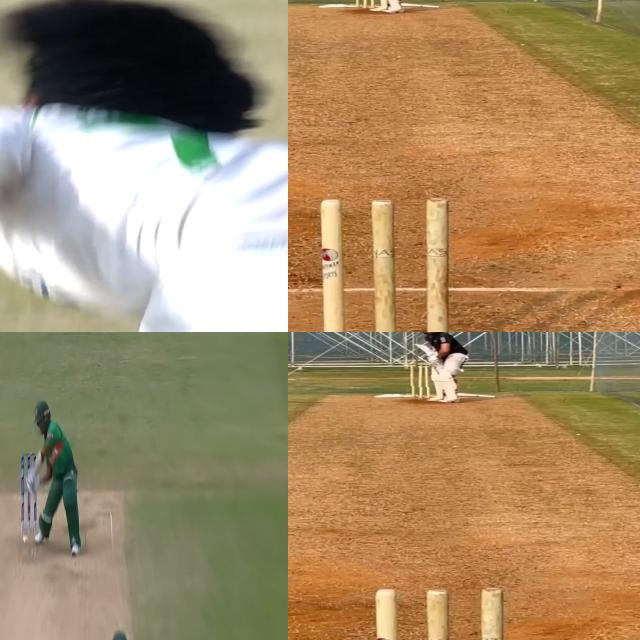Cricket ball: (22, 533, 28, 544)
Stumps: (368, 586, 507, 640), (22, 454, 38, 535), (407, 363, 430, 400), (351, 0, 375, 8)
